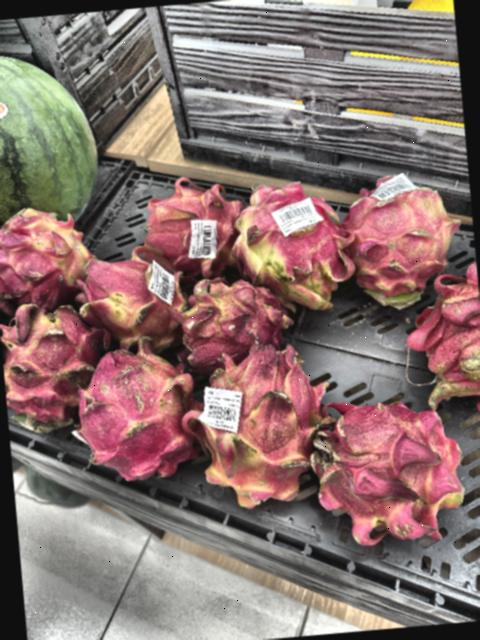buah-naga-belum-matang: (298, 384, 469, 556), (194, 342, 322, 508), (64, 342, 206, 490), (228, 167, 346, 310), (334, 170, 449, 306), (0, 301, 98, 427), (70, 244, 183, 344), (0, 188, 89, 306), (140, 175, 243, 275), (178, 272, 288, 350), (421, 274, 480, 410)
